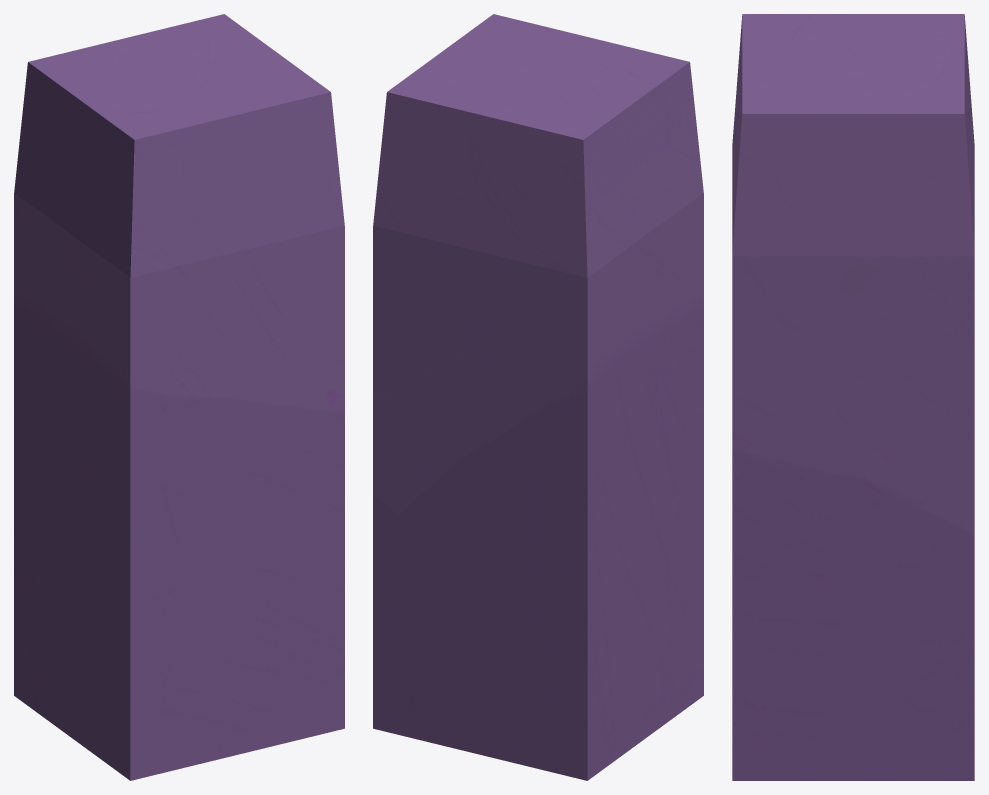
3 views of the same model, side by side, from view 1: azimuth 30°, elevation 25°; view 2: azimuth 150°, elevation 25°; view 3: azimuth 270°, elevation 25° (orthographic). The views are drawn at different scales.
Parts seen in each view (by area): view 1: b02:headusOBJexport; view 2: b02:headusOBJexport; view 3: b02:headusOBJexport.
Part boxes in pixels (left/top/right/bottom): b02:headusOBJexport: left=14, top=14, right=344, bottom=780; b02:headusOBJexport: left=373, top=14, right=703, bottom=780; b02:headusOBJexport: left=732, top=14, right=974, bottom=780.
Bounding box in the file's own units: 5.87 × 16.64 × 5.52.
